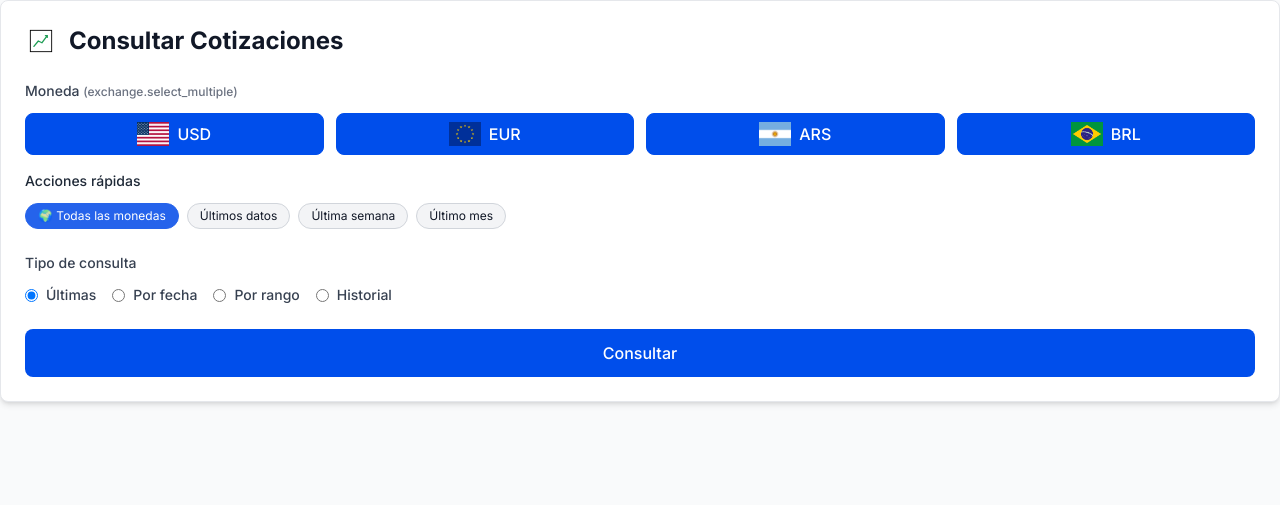
Test case: ExchangeSearchForm Component › Search Type Selection › switches to date type
The width and height of the screenshot is (1280, 505).
Step 1. Click the text "Por fecha" → coordinates (165, 295), box [133,285,197,305]
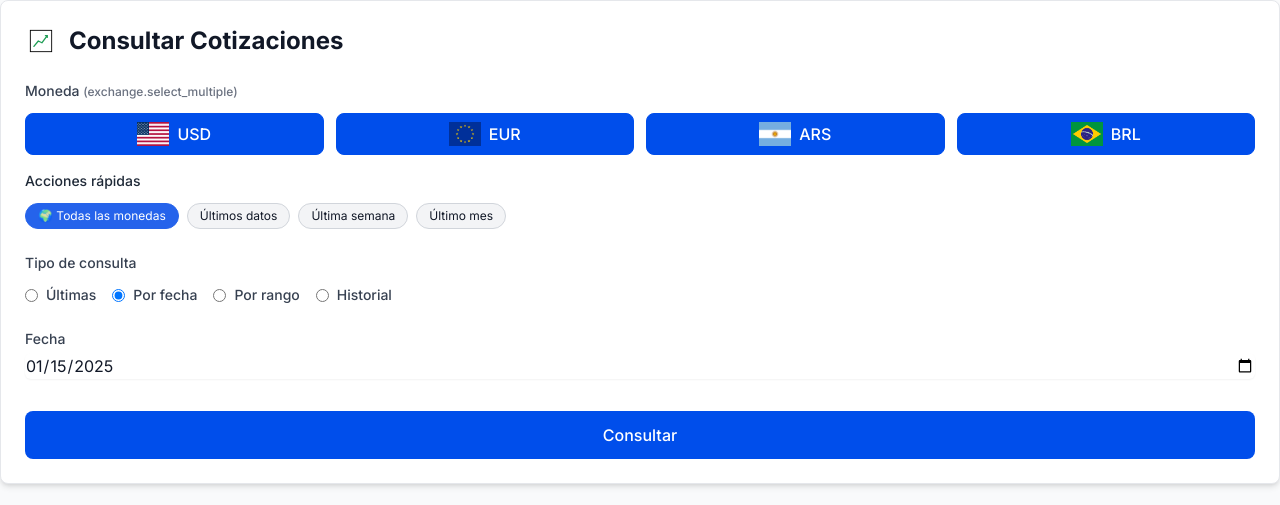
Now the date field labelled "Fecha" is shown, box [25,353,1255,379]
